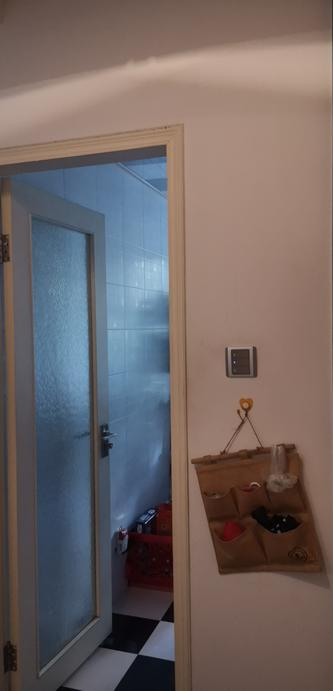switch: (231, 349, 248, 371)
